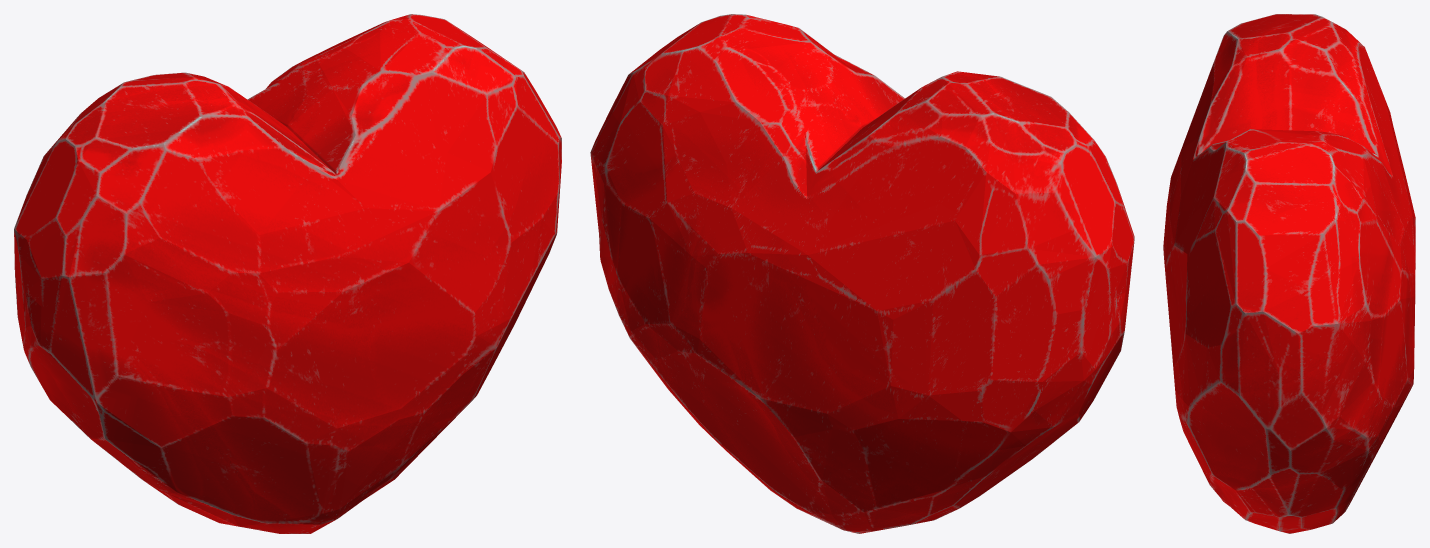
File: ball.obj
3 renders of one model, left to right at view 1: azimuth 30°, elevation 25°; view 2: azimuth 150°, elevation 25°; view 3: azimuth 270°, elevation 25°, orthographic. The views are drawn at different scales.
Parts seen in each view (by area): view 1: Crystal_Heart_Mesh; view 2: Crystal_Heart_Mesh; view 3: Crystal_Heart_Mesh.
Part boxes in pixels (left/top/right/bottom): Crystal_Heart_Mesh: left=14, top=14, right=561, bottom=533; Crystal_Heart_Mesh: left=590, top=14, right=1134, bottom=533; Crystal_Heart_Mesh: left=1163, top=14, right=1415, bottom=533.
Bounding box in the file's own units: 1.16 × 0.999 × 0.5179.
1 material, 1 textured.
